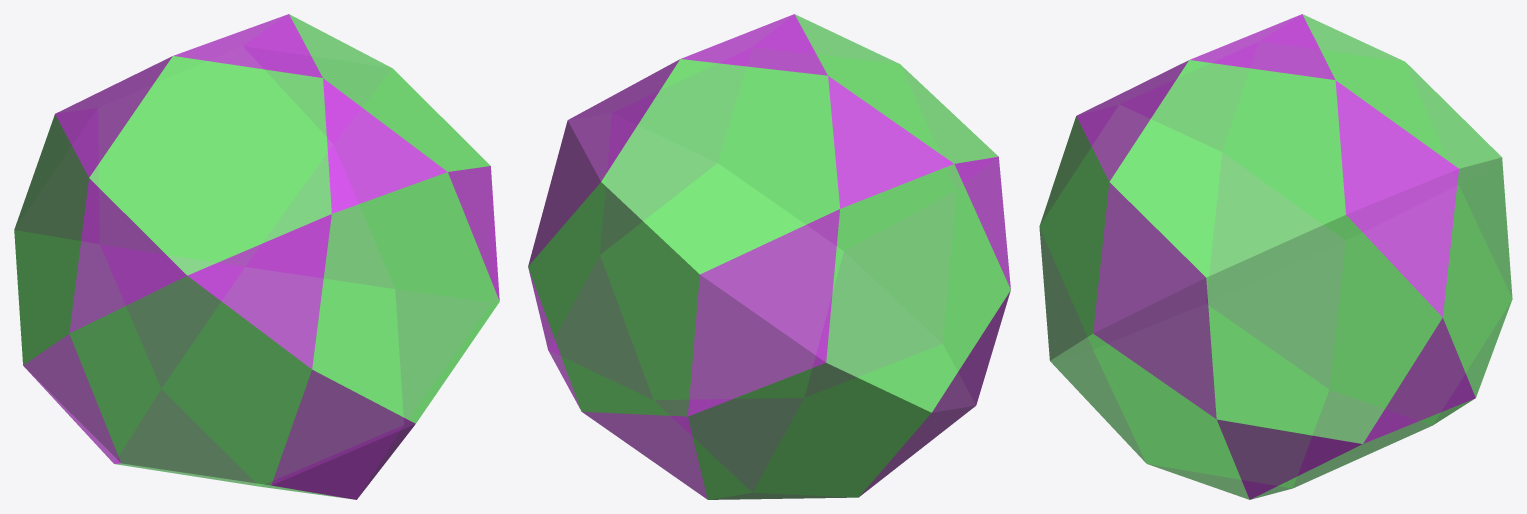
Rendered from j34_pentagonal_orthobirotunda.obj.
The picture shows the model from 3 angles, left to right: view 1: azimuth 30°, elevation 25°; view 2: azimuth 150°, elevation 25°; view 3: azimuth 270°, elevation 25°; orthographic projection. The views are drawn at different scales.
Bounding box in the file's own units: 1.91 × 1.94 × 1.91.
